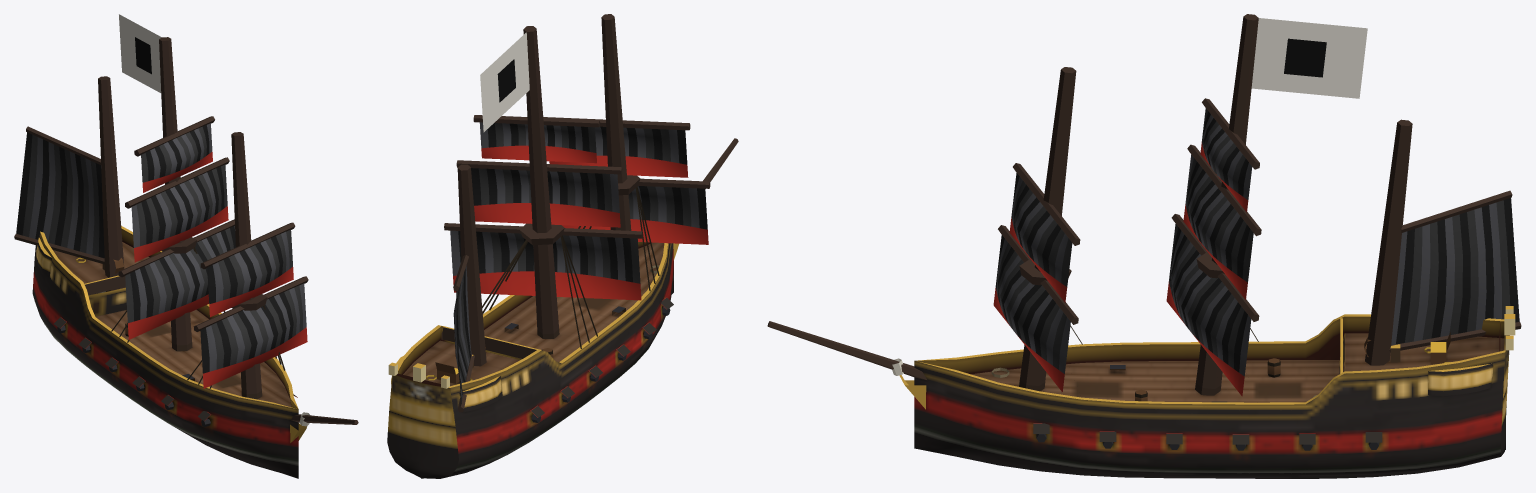
File: npc_pirate_captain.73eb940c.glb
The picture shows the model from 3 angles, left to right: view 1: azimuth 30°, elevation 25°; view 2: azimuth 150°, elevation 25°; view 3: azimuth 270°, elevation 25°; orthographic projection. The views are drawn at different scales.
Parts seen in each view (by area): view 1: npc_pirate_captain_lod0; view 2: npc_pirate_captain_lod0; view 3: npc_pirate_captain_lod0.
Boxes of the visible parts, left/top/right/bottom form: npc_pirate_captain_lod0: left=14, top=14, right=358, bottom=478; npc_pirate_captain_lod0: left=387, top=14, right=738, bottom=478; npc_pirate_captain_lod0: left=767, top=14, right=1521, bottom=478.
Size of what is drawn, in the model's own units: 11.42 by 25.46 by 38.56.
Materials: 1 (1 with a texture image).
